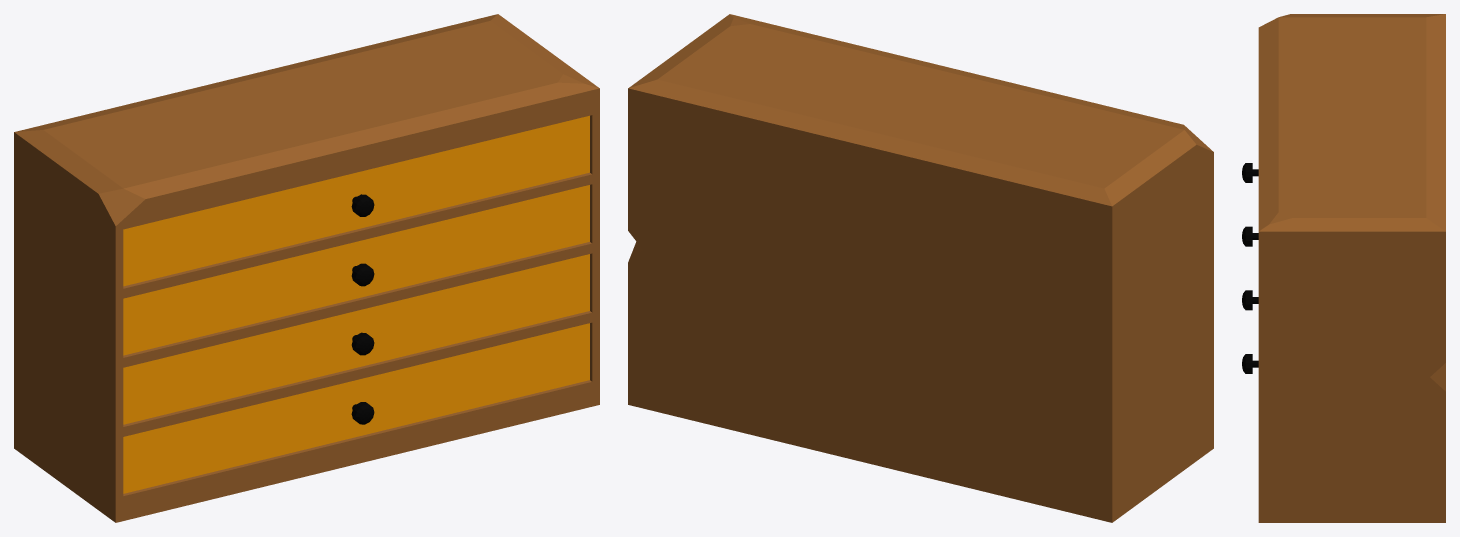
File: Drawer_01.fbx
3 renders of one model, left to right at view 1: azimuth 30°, elevation 25°; view 2: azimuth 150°, elevation 25°; view 3: azimuth 270°, elevation 25°, orthographic. The views are drawn at different scales.
Visible parts, largest first — view 1: Drawer_01; view 2: Drawer_01; view 3: Drawer_01.
Part boxes in pixels (<box>): Drawer_01: <box>14,14,599,522</box>; Drawer_01: <box>628,14,1213,522</box>; Drawer_01: <box>1242,14,1445,522</box>.
Size of the model in its own units: 93.78 by 59.61 by 37.15.
